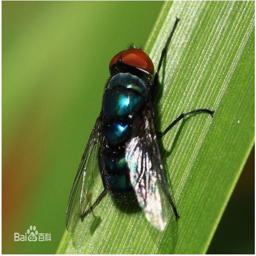liriomyza: (64, 15, 216, 234)
